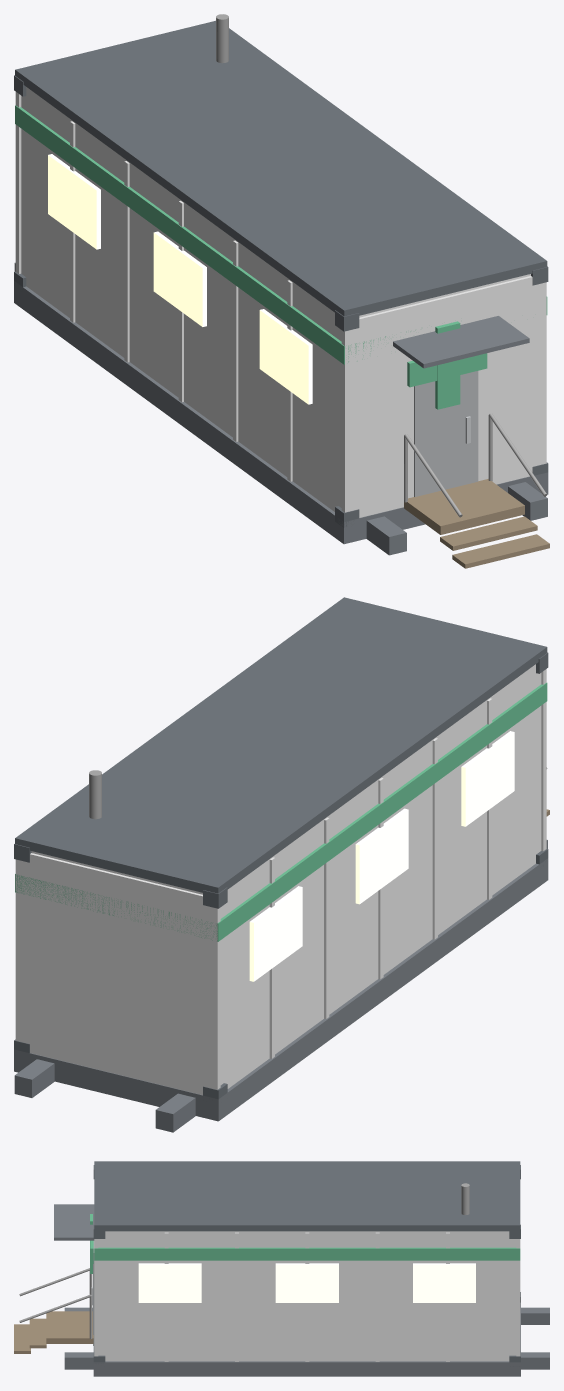
The model's file is medic.glb.
3 renders of one model, top to bottom at view 1: azimuth 30°, elevation 25°; view 2: azimuth 150°, elevation 25°; view 3: azimuth 270°, elevation 25°, orthographic. The views are drawn at different scales.
Parts seen in each view (by area): view 1: object 10, object 1, object 9, object 2, object 11, object 18, inst (×2), object 19, object 24, object 14, object 13, object 12 (+10 smaller); view 2: object 10, object 1, object 3, object 2, object 11, object 12, object 13, object 14, inst, object 26, object 27, object 5 (+5 smaller); view 3: object 1, object 10, object 2, object 11, object 16, object 17, object 15, inst (×2), object 19, object 24, object 27, object 26 (+8 smaller).
Part boxes in pixels (<box>): object 10: <box>15,20,547,316</box>; object 1: <box>21,87,530,511</box>; object 9: <box>341,276,546,517</box>; object 2: <box>14,281,548,544</box>; object 11: <box>15,105,547,364</box>; object 18: <box>414,371,478,496</box>; inst (×2): <box>14,75,549,568</box>; object 19: <box>404,479,524,534</box>; object 24: <box>393,316,529,368</box>; object 14: <box>259,309,312,404</box>; object 13: <box>153,231,206,326</box>; object 12: <box>48,154,100,249</box>; object 10: <box>15,597,547,893</box>; object 1: <box>31,664,541,1088</box>; object 3: <box>15,853,220,1094</box>; object 2: <box>14,858,548,1121</box>; object 11: <box>15,682,547,941</box>; object 12: <box>249,886,302,981</box>; object 13: <box>355,808,408,904</box>; object 14: <box>461,731,514,826</box>; inst: <box>14,652,548,1099</box>; object 26: <box>155,840,547,1132</box>; object 27: <box>14,1059,54,1097</box>; object 5: <box>324,817,329,1018</box>; object 1: <box>98,1231,516,1361</box>; object 10: <box>94,1161,520,1231</box>; object 2: <box>93,1302,520,1376</box>; object 11: <box>94,1247,520,1260</box>; object 16: <box>275,1263,338,1302</box>; object 17: <box>138,1263,201,1302</box>; object 15: <box>413,1263,475,1302</box>; inst (×2): <box>14,1165,520,1366</box>; object 19: <box>46,1311,93,1343</box>; object 24: <box>54,1204,94,1240</box>; object 27: <box>64,1352,549,1369</box>; object 26: <box>64,1307,549,1324</box>.
Size of the model in its own units: 2.92 by 3.75 by 10.16.
